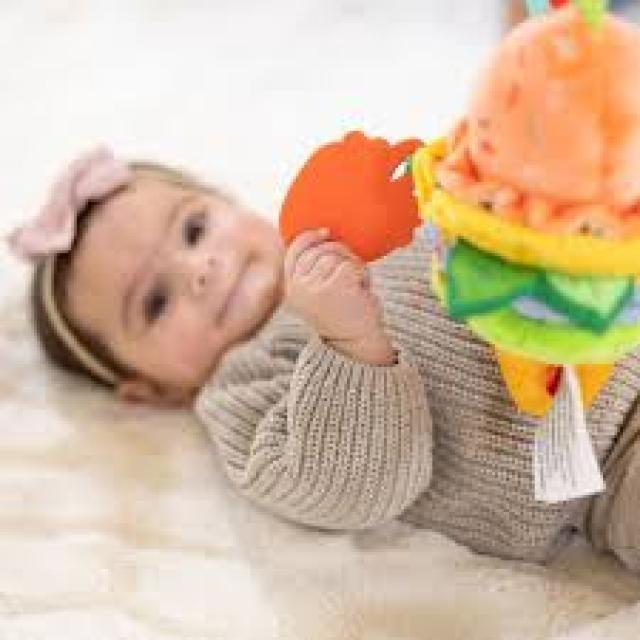soft-toy: (412, 6, 640, 416)
